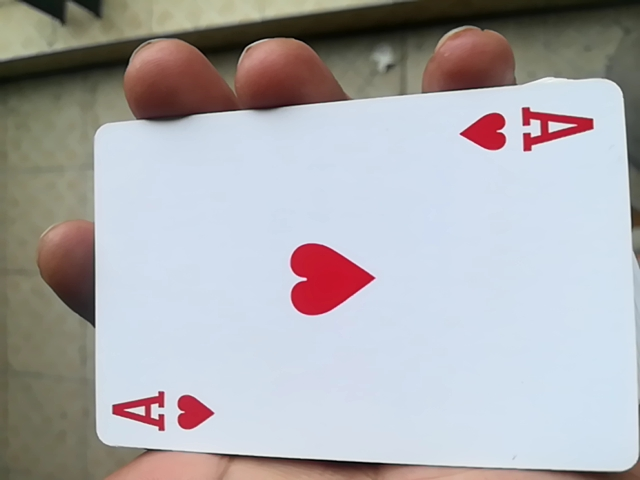hx a: (76, 84, 638, 475)
